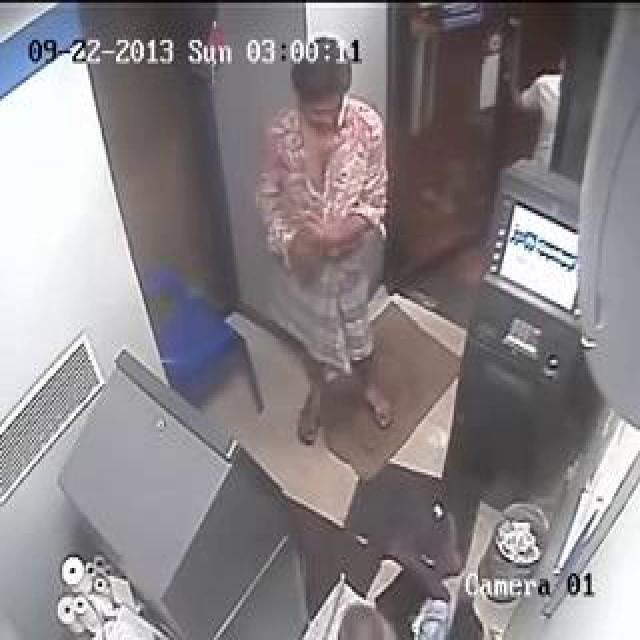shooting: (263, 23, 510, 640), (466, 44, 611, 309)
